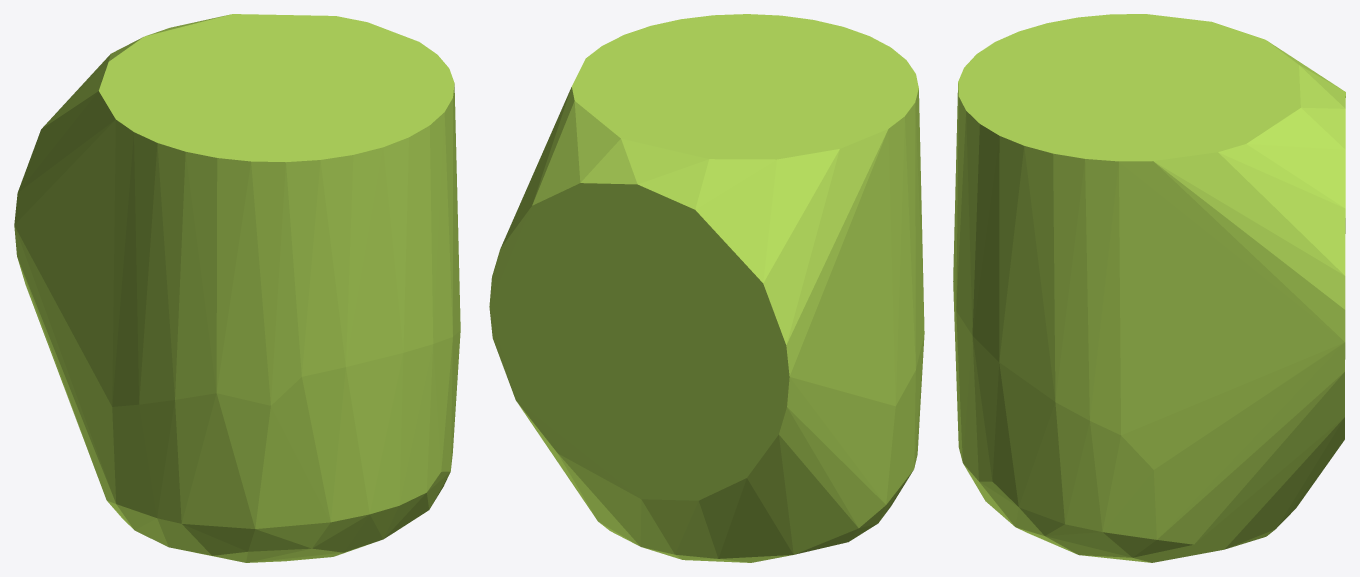
The model's file is ur3_link_2_coll_5.dae.
3 views of the same model, side by side, from view 1: azimuth 30°, elevation 25°; view 2: azimuth 150°, elevation 25°; view 3: azimuth 270°, elevation 25° (orthographic). The views are drawn at different scales.
Parts seen in each view (by area): view 1: Node_000002223FC9B2B0; view 2: Node_000002223FC9B2B0; view 3: Node_000002223FC9B2B0.
Boxes of the visible parts, x1,y1,x2,y2 form: Node_000002223FC9B2B0: (14, 14, 460, 562); Node_000002223FC9B2B0: (489, 14, 924, 562); Node_000002223FC9B2B0: (953, 14, 1345, 562).
Size of the model in its own units: 0.0775 by 0.0995 by 0.0841.
